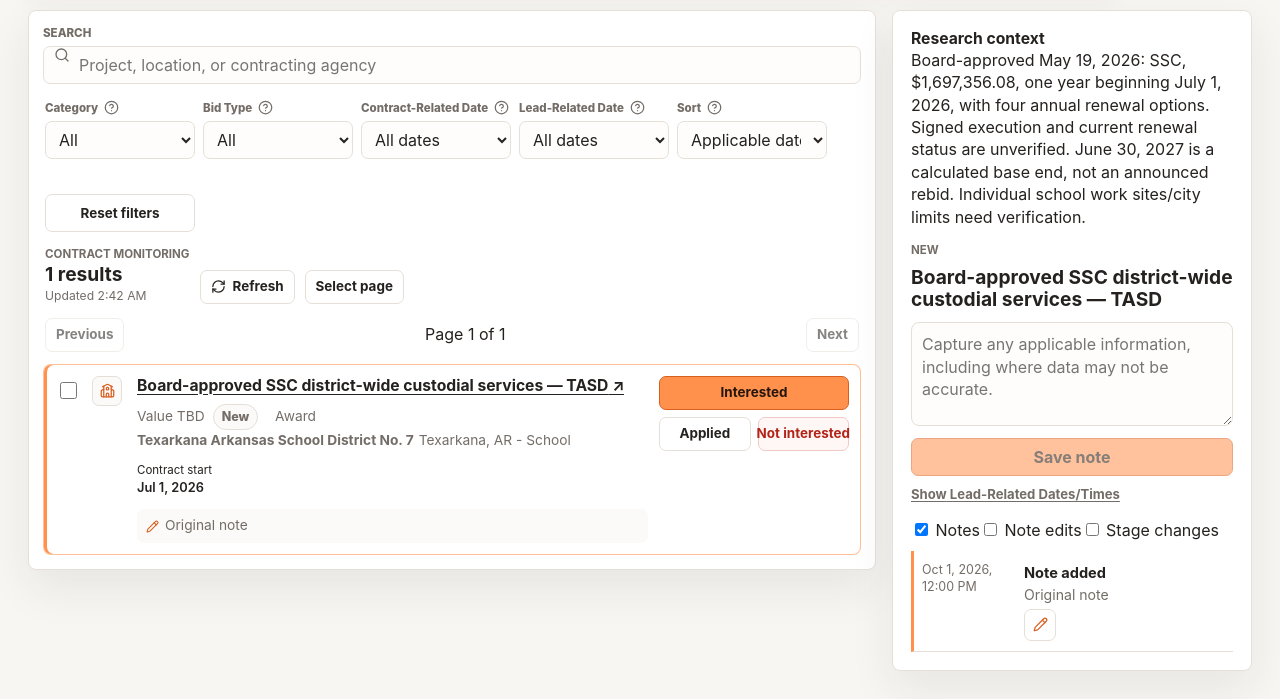
retains a rejected edit and treats a committed edit with failed refresh as saved
This screenshot has width=1280, height=699.
(page scrolled)
Click the button named "Edit note from": (1040, 625) [1024,609,1056,641]
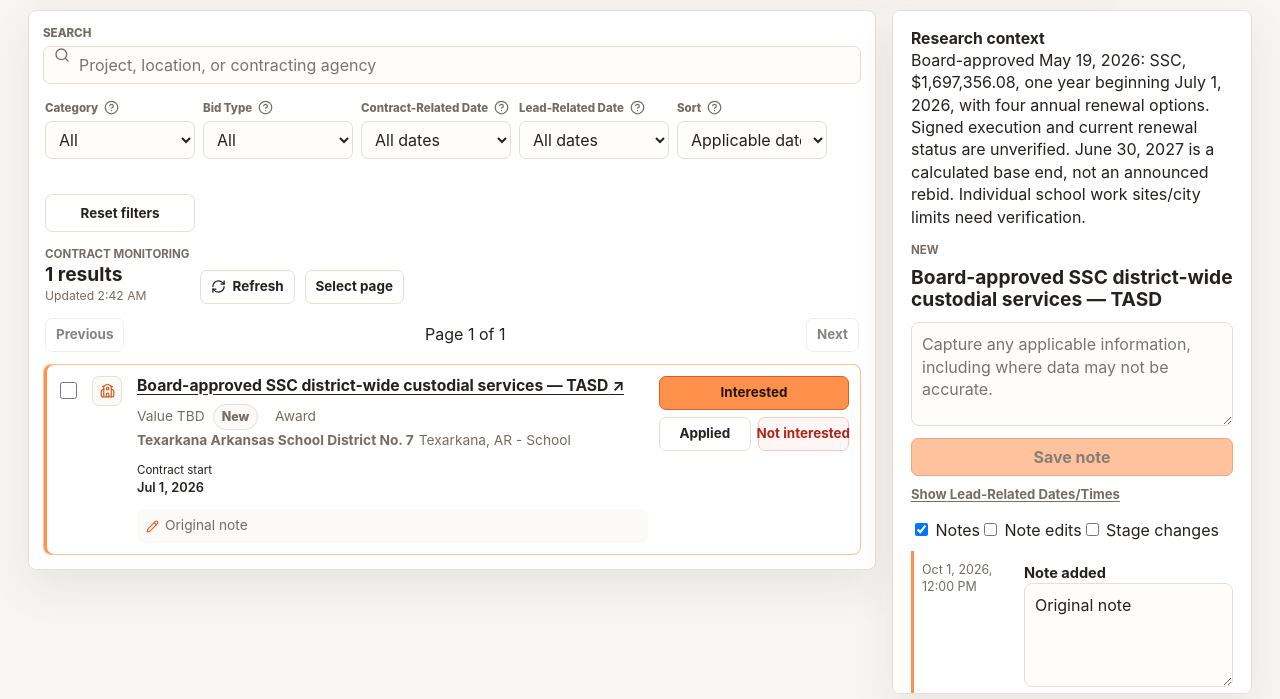
Replace the text in the text box named "Edit note from" with "Edited draft": (1128, 635) [1024,583,1233,687]
(page scrolled)
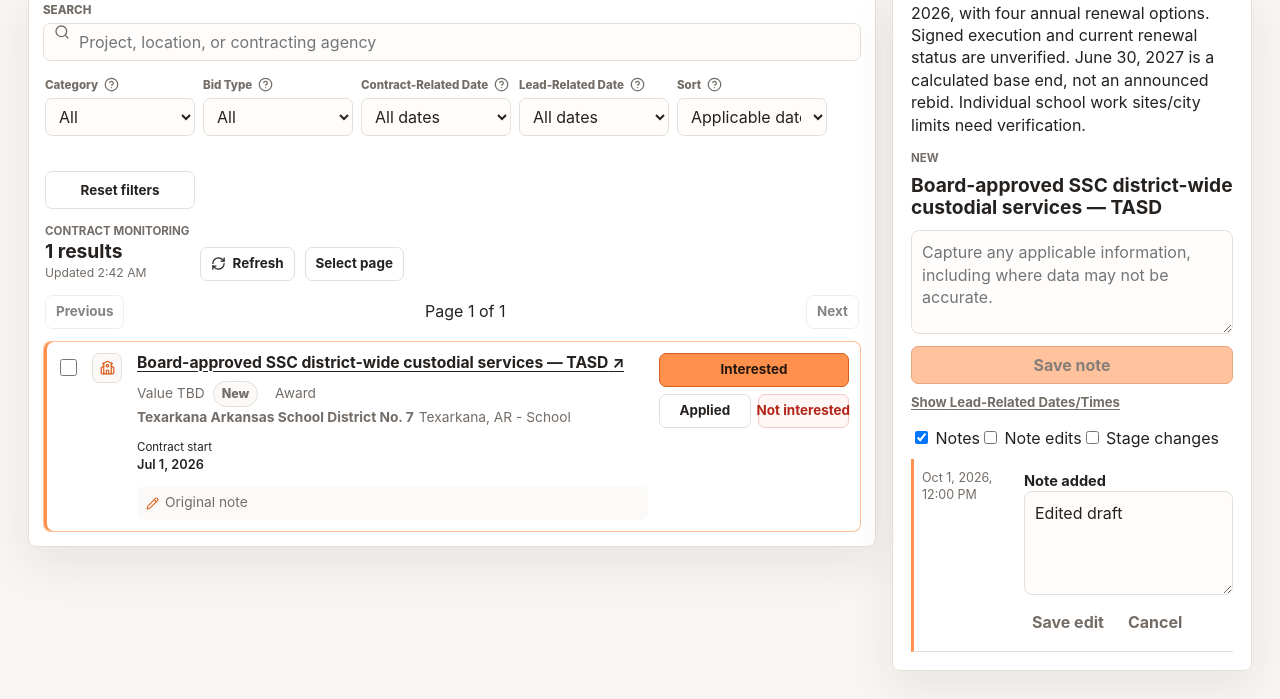
Click the button "Save edit": (1068, 622) [1024,604,1112,642]
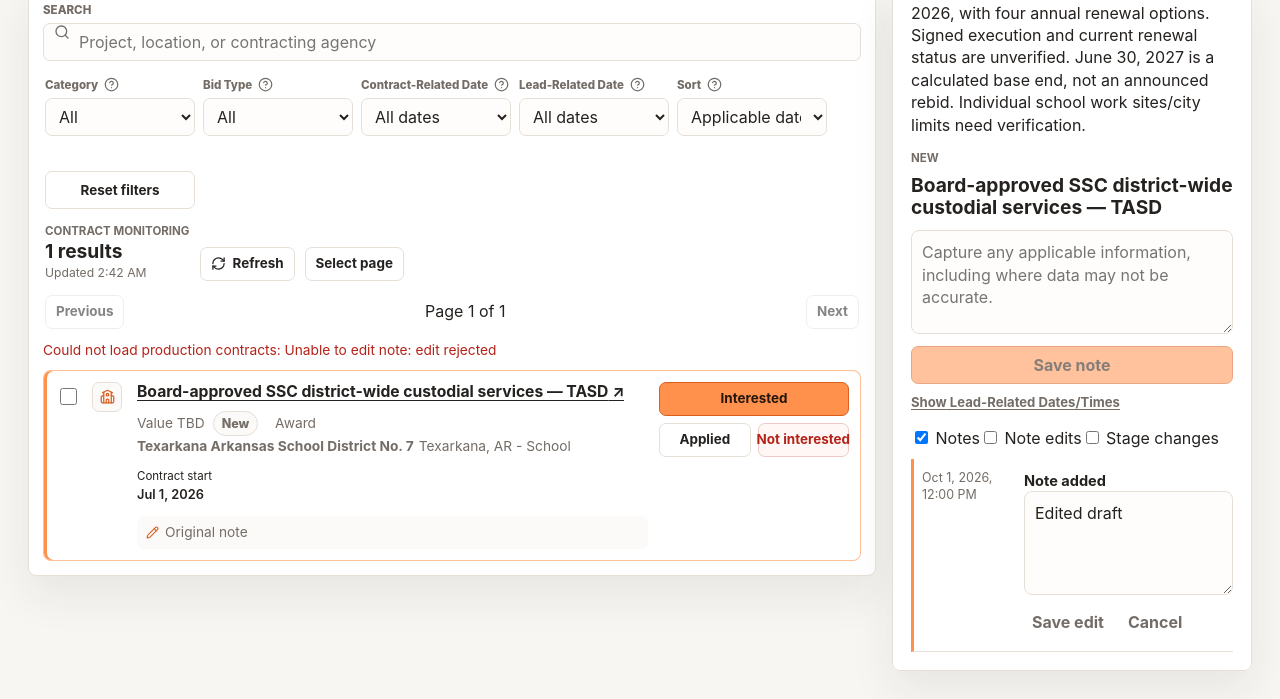
Check: the text "Could not load production contracts: Unable to edit note: edit rejected" is shown, box [43,342,496,358]
Click the button "Save edit": (1068, 622) [1024,604,1112,642]
(page scrolled)
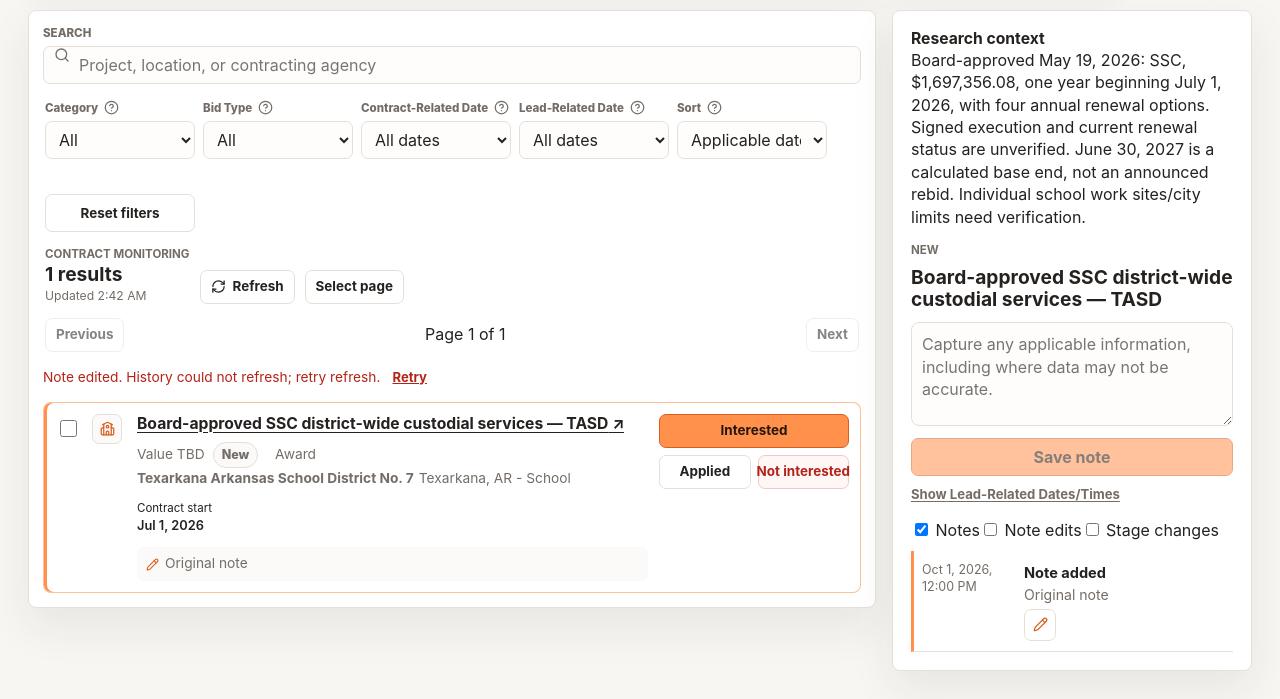
Check: the text "Note edited. History could not refresh; retry refresh." is shown, box [43,368,380,387]
Check: the button "Save edit" is gone
